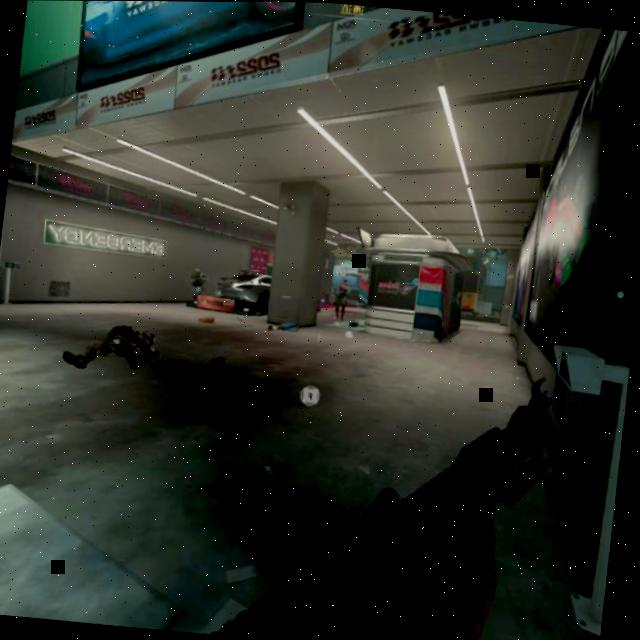MW2_body: (333, 280, 352, 320), (188, 268, 209, 301)
